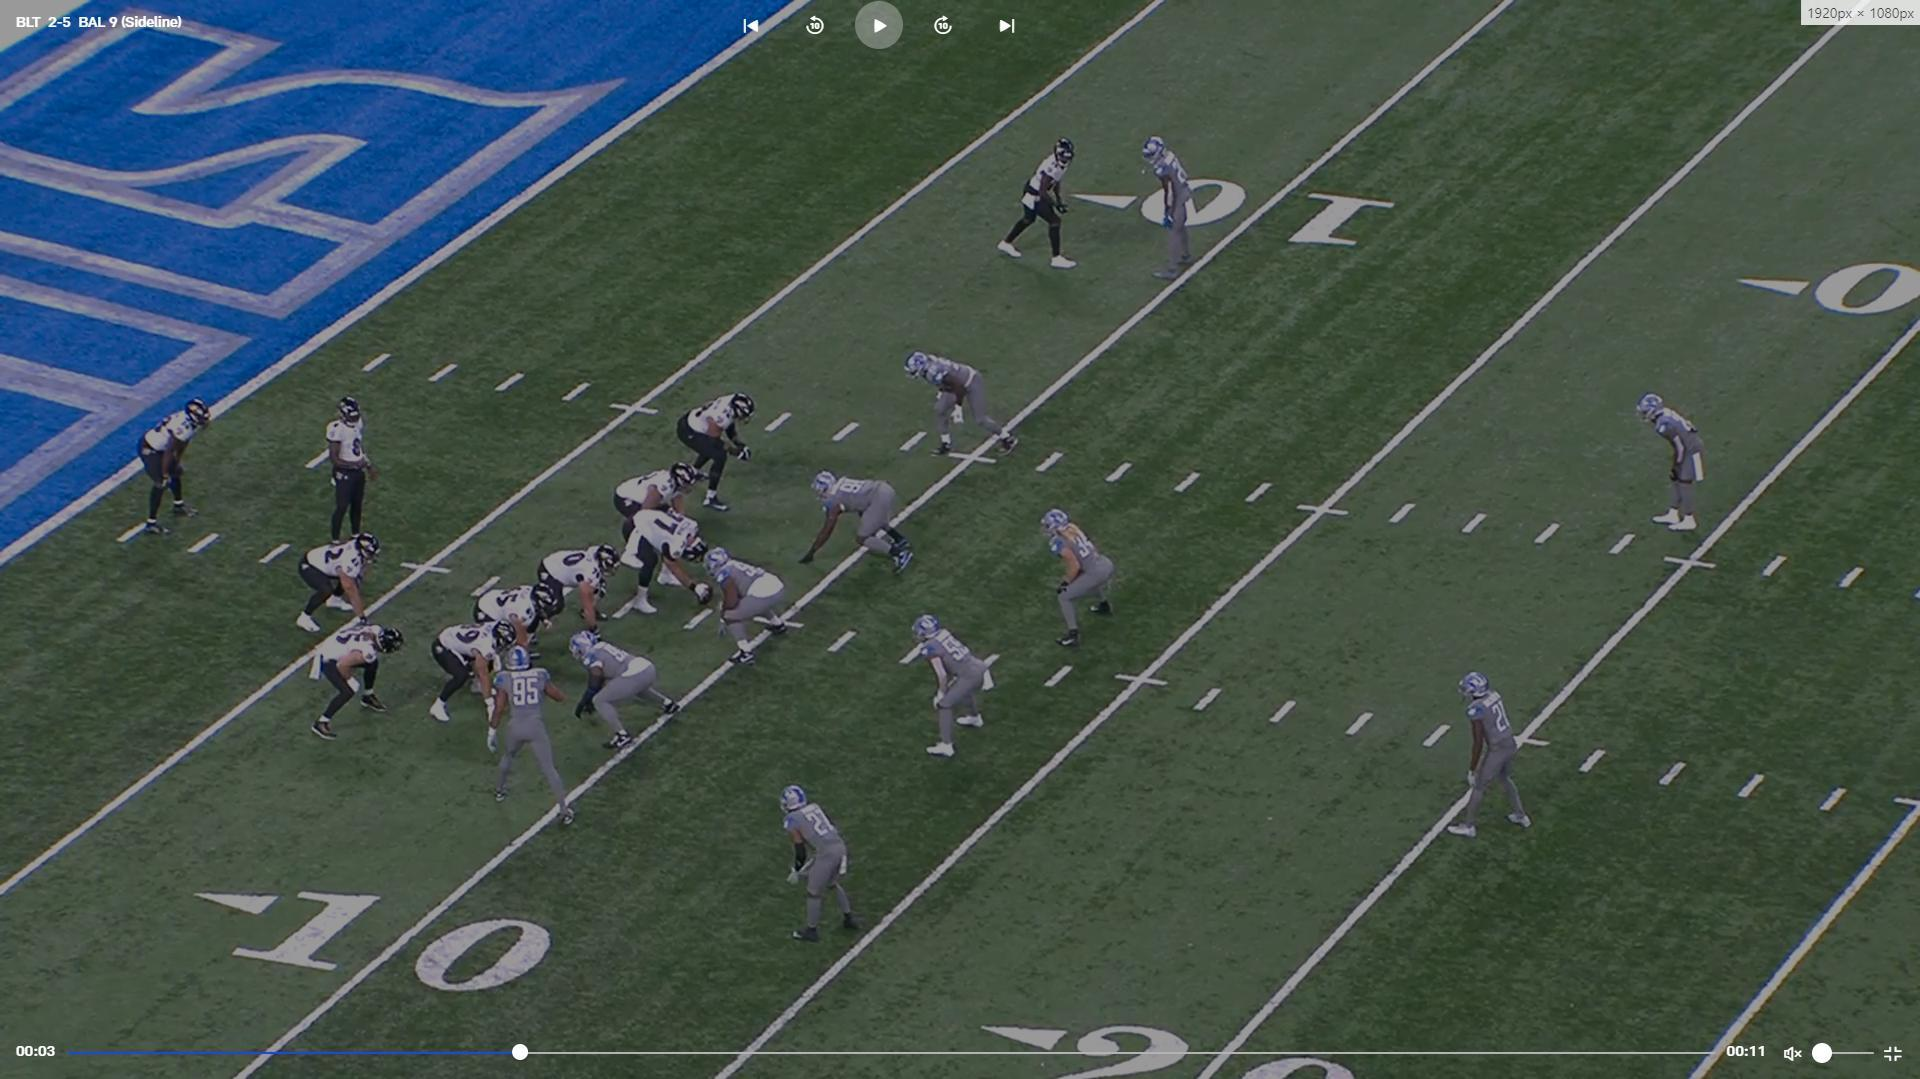player: (1448, 666, 1537, 844), (485, 652, 572, 823), (781, 782, 868, 950), (570, 626, 682, 749), (910, 346, 1027, 461), (999, 137, 1090, 271), (907, 608, 986, 760), (689, 546, 785, 671), (803, 466, 914, 572), (1638, 393, 1712, 540), (1042, 507, 1116, 653), (142, 395, 218, 537), (317, 618, 401, 745), (678, 389, 761, 517), (316, 394, 377, 557), (619, 507, 708, 618), (428, 619, 513, 732), (1137, 135, 1201, 285), (297, 534, 383, 641), (610, 463, 697, 565), (532, 544, 616, 641), (475, 576, 553, 668)
